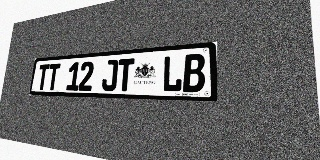1: (66, 62, 81, 91)
2: (78, 61, 94, 91)
B: (183, 53, 205, 92)
J: (101, 59, 118, 91)
L: (162, 55, 183, 92)
T: (116, 58, 135, 91), (47, 63, 61, 90), (36, 64, 50, 90)
